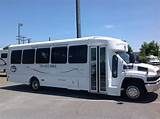bus: (8, 38, 160, 97)
